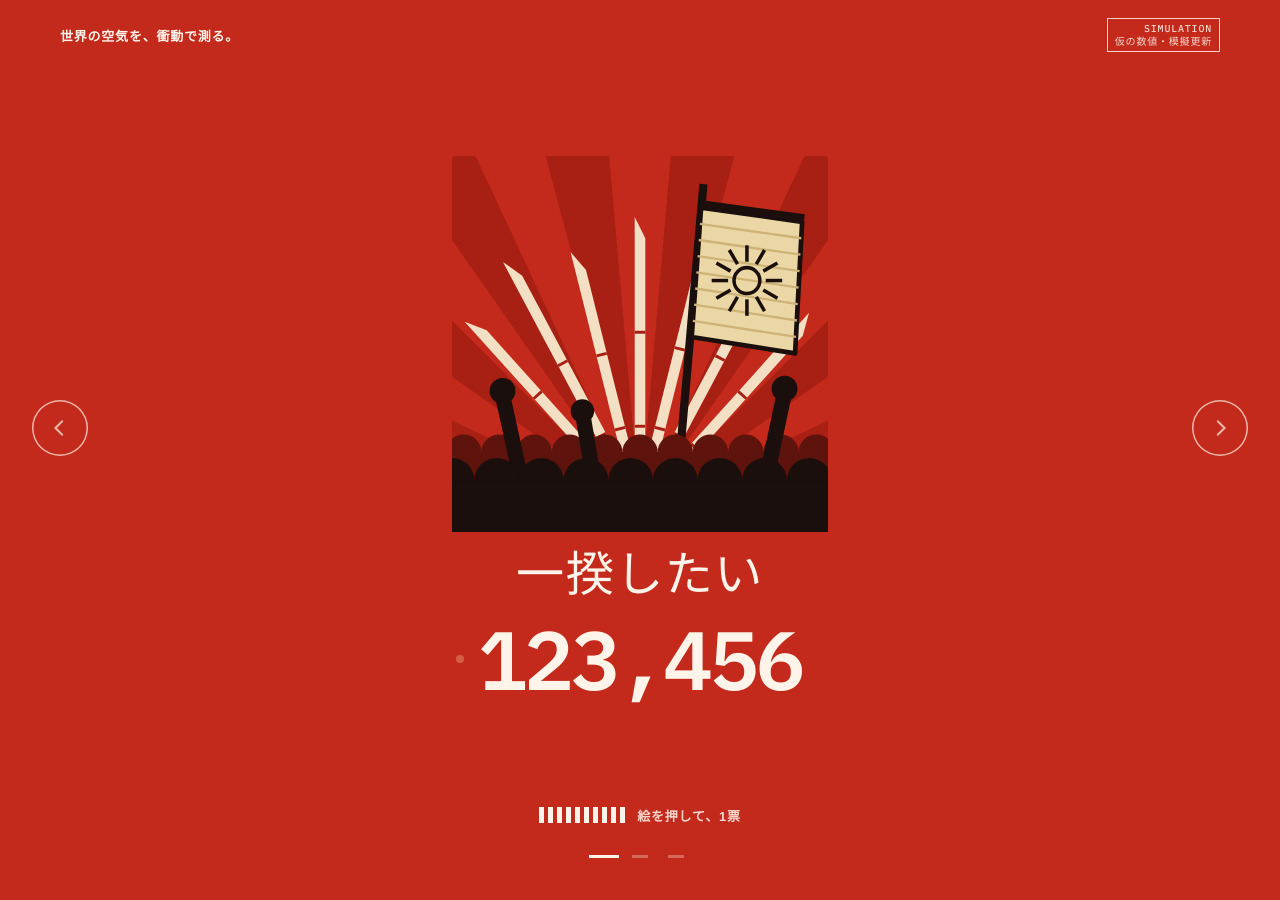
it: MainScreen › US-B3・US-B6: インジケーターで現在位置がわかり、押すと移動する
Click the 2nd button with class "dot": (640, 856) left=623, top=836, right=657, bottom=876
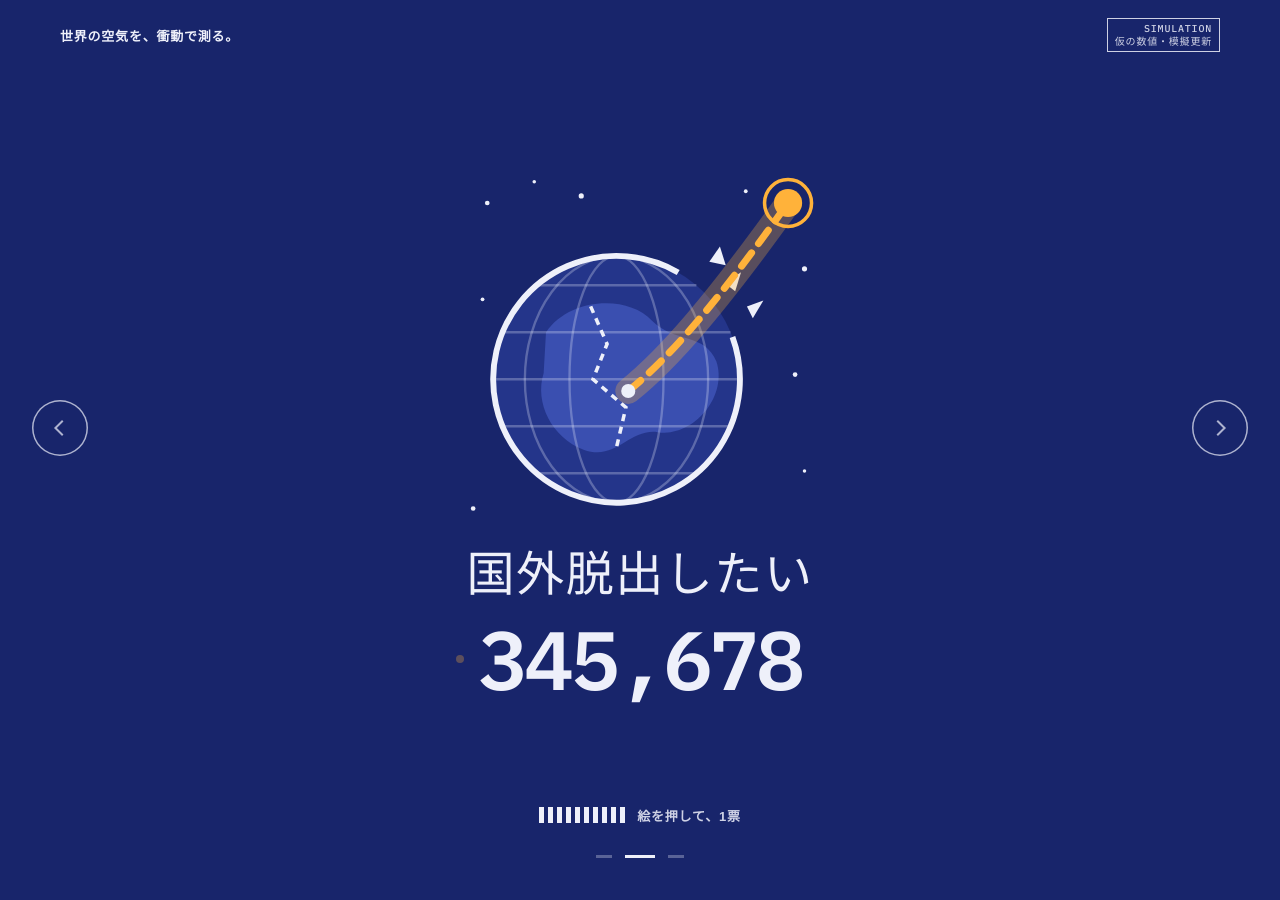
Expected: the heading "国外脱出したい" is shown, left=467, top=548, right=814, bottom=601
